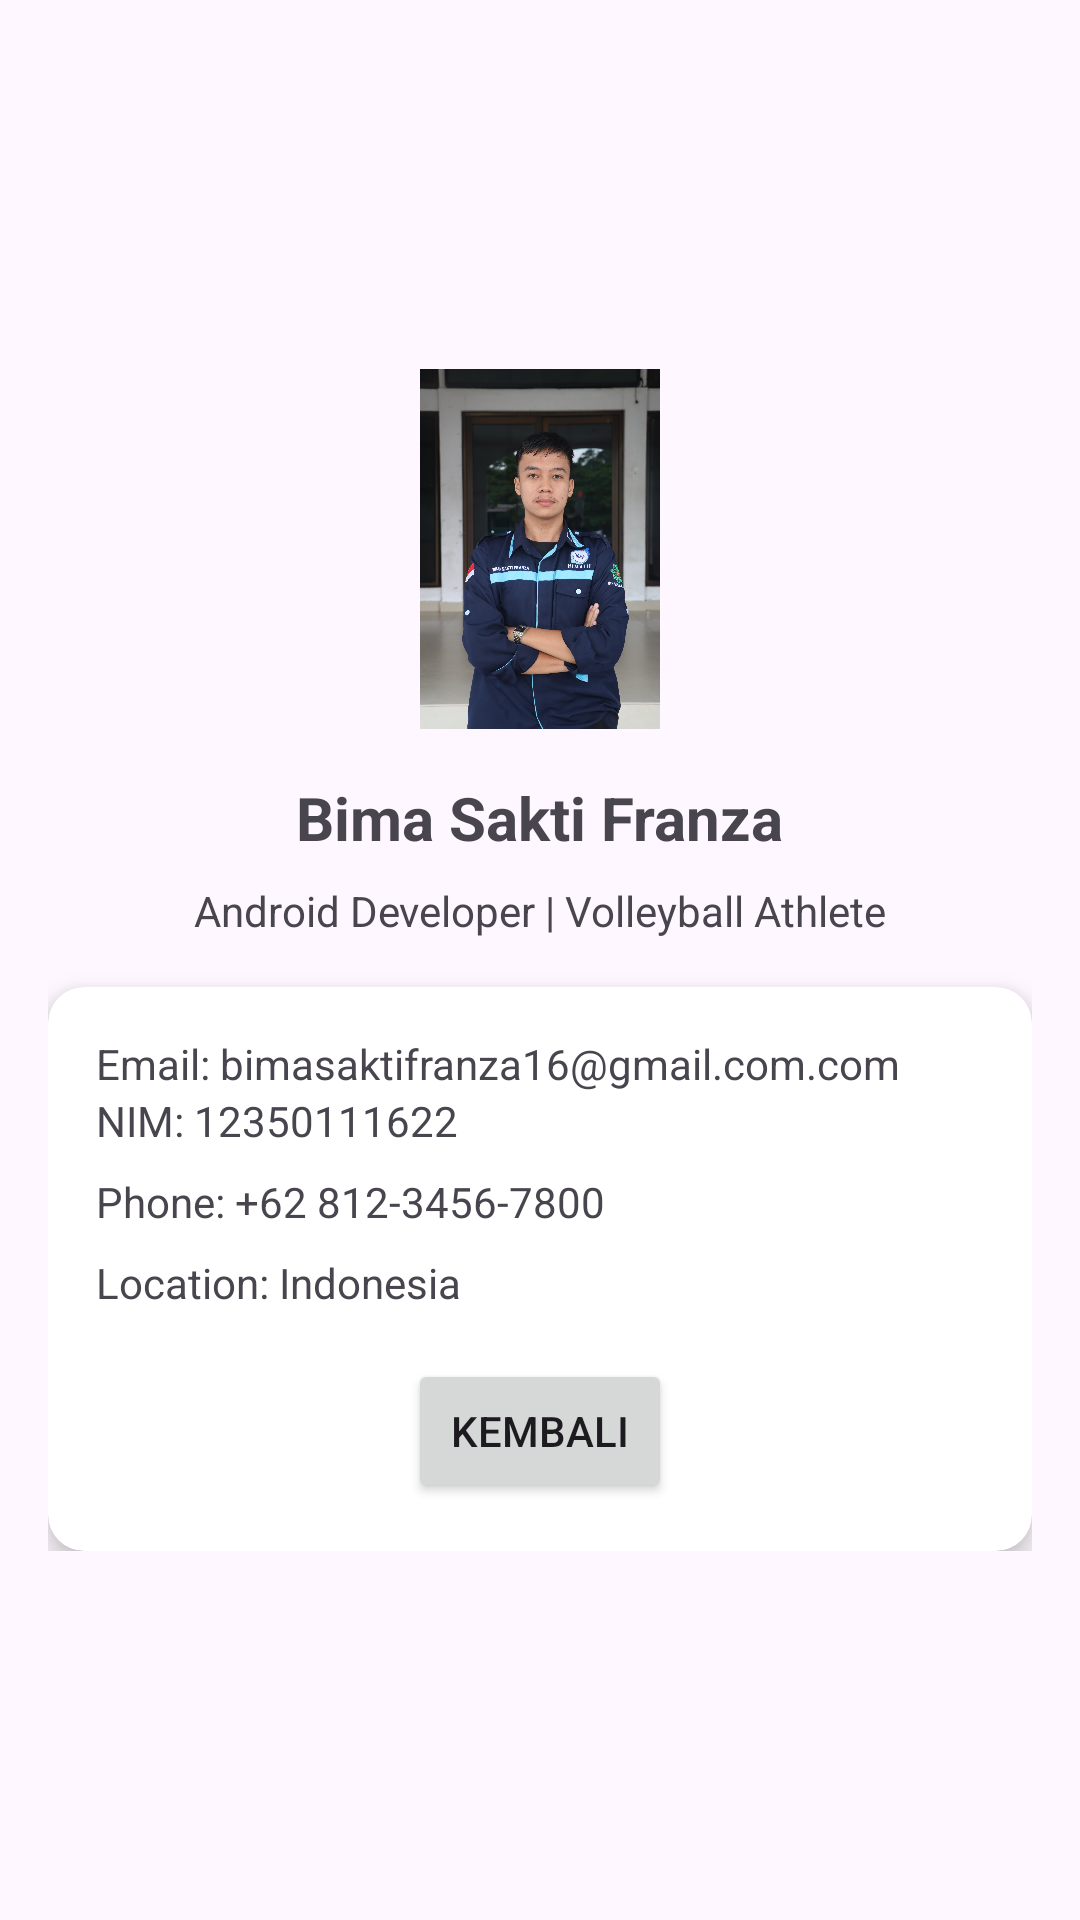

Icons on this 1080x1920 Android screen, each with its box as box(x1, y1, x2, y2):
Foto Profil: box(420, 369, 660, 729)
